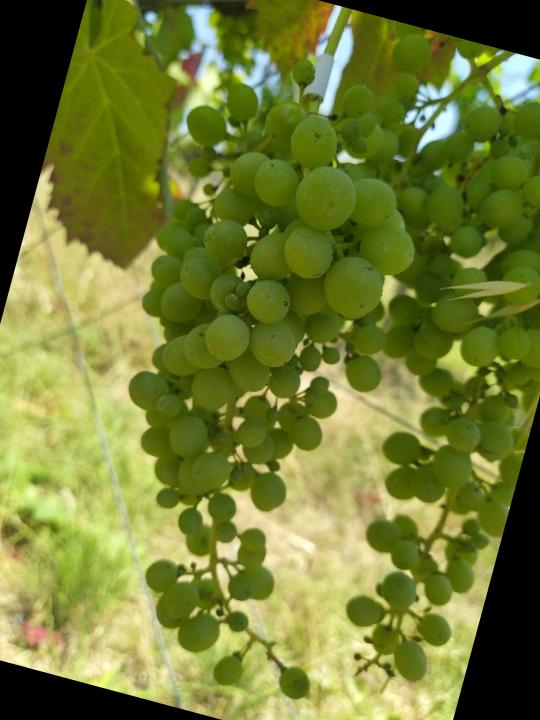grape: (46, 31, 474, 710)
